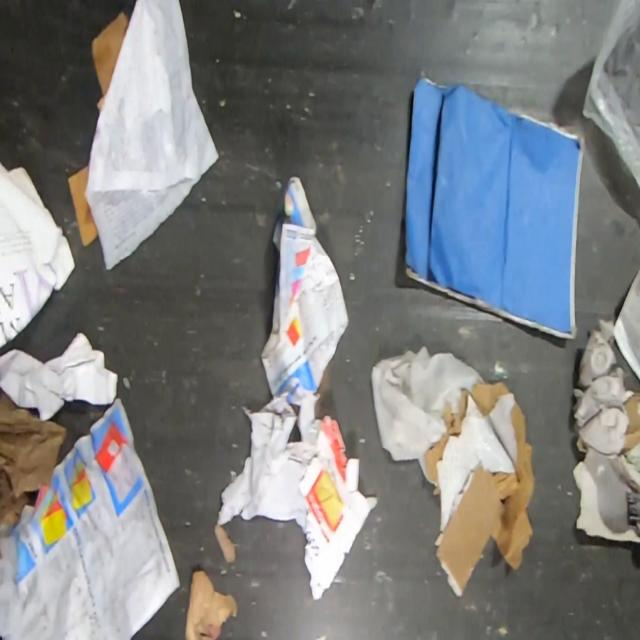cardboard: (398, 70, 590, 343), (421, 380, 534, 597), (0, 386, 66, 529), (90, 10, 130, 112), (620, 391, 640, 546), (67, 164, 100, 248)
soft_plastic: (580, 0, 640, 205)
